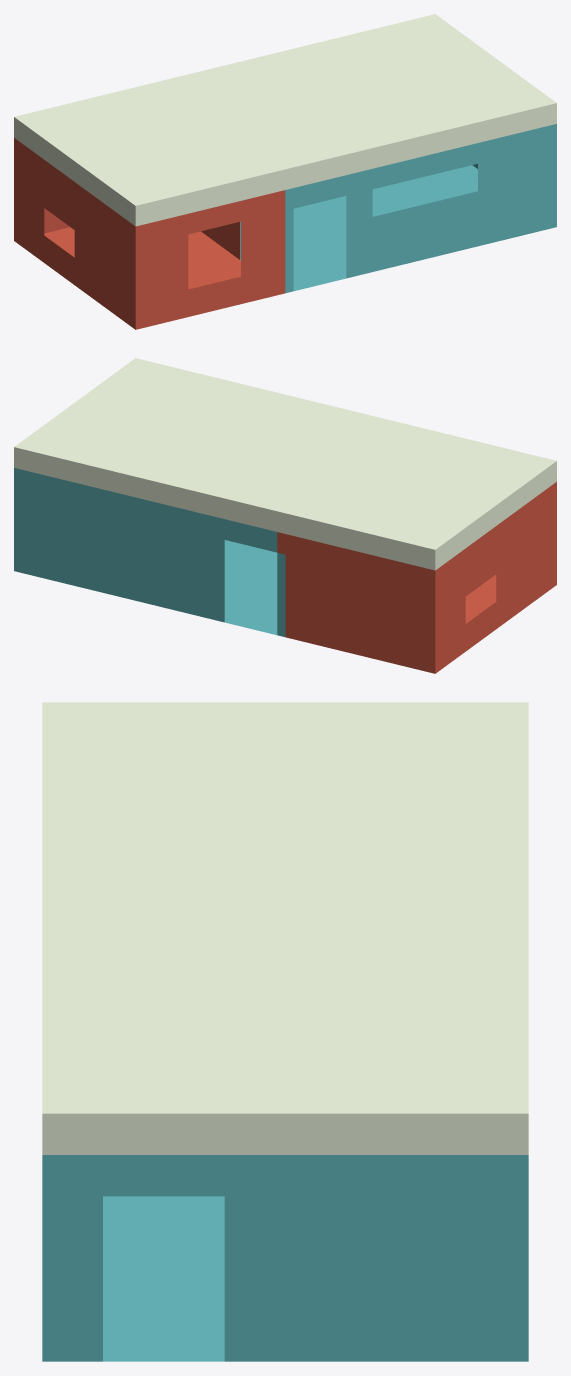
The model's file is Walls.fbx.
3 views of the same model, one above another, from view 1: azimuth 30°, elevation 25°; view 2: azimuth 150°, elevation 25°; view 3: azimuth 270°, elevation 25° (orthographic). The views are drawn at different scales.
Parts seen in each view (by area): view 1: walls.022, walls.020, walls.015, walls.016, walls.019, walls.014, walls.018, walls.013; view 2: walls.022, walls.017, walls.021, walls.015, walls.019, walls.014, walls.018, walls.013; view 3: walls.022, walls.012, walls.015, walls.014, walls.018.
Boxes of the visible parts, bbox=[...] form: walls.022: bbox=[164, 14, 556, 167]; walls.020: bbox=[293, 103, 556, 278]; walls.015: bbox=[14, 80, 284, 205]; walls.016: bbox=[135, 169, 285, 329]; walls.019: bbox=[14, 117, 135, 329]; walls.014: bbox=[240, 165, 477, 291]; walls.018: bbox=[184, 91, 293, 293]; walls.013: bbox=[44, 227, 240, 289]; walls.022: bbox=[14, 358, 398, 513]; walls.017: bbox=[14, 447, 277, 622]; walls.021: bbox=[277, 511, 435, 673]; walls.015: bbox=[286, 424, 556, 549]; walls.019: bbox=[435, 461, 556, 673]; walls.014: bbox=[224, 540, 277, 635]; walls.018: bbox=[277, 422, 406, 637]; walls.013: bbox=[465, 574, 496, 623]; walls.022: bbox=[42, 848, 528, 1113]; walls.012: bbox=[42, 1113, 528, 1361]; walls.015: bbox=[42, 702, 528, 848]; walls.014: bbox=[103, 1196, 224, 1361]; walls.018: bbox=[42, 848, 467, 856].
Bounding box in the file's own units: 1920 × 540 × 960.
